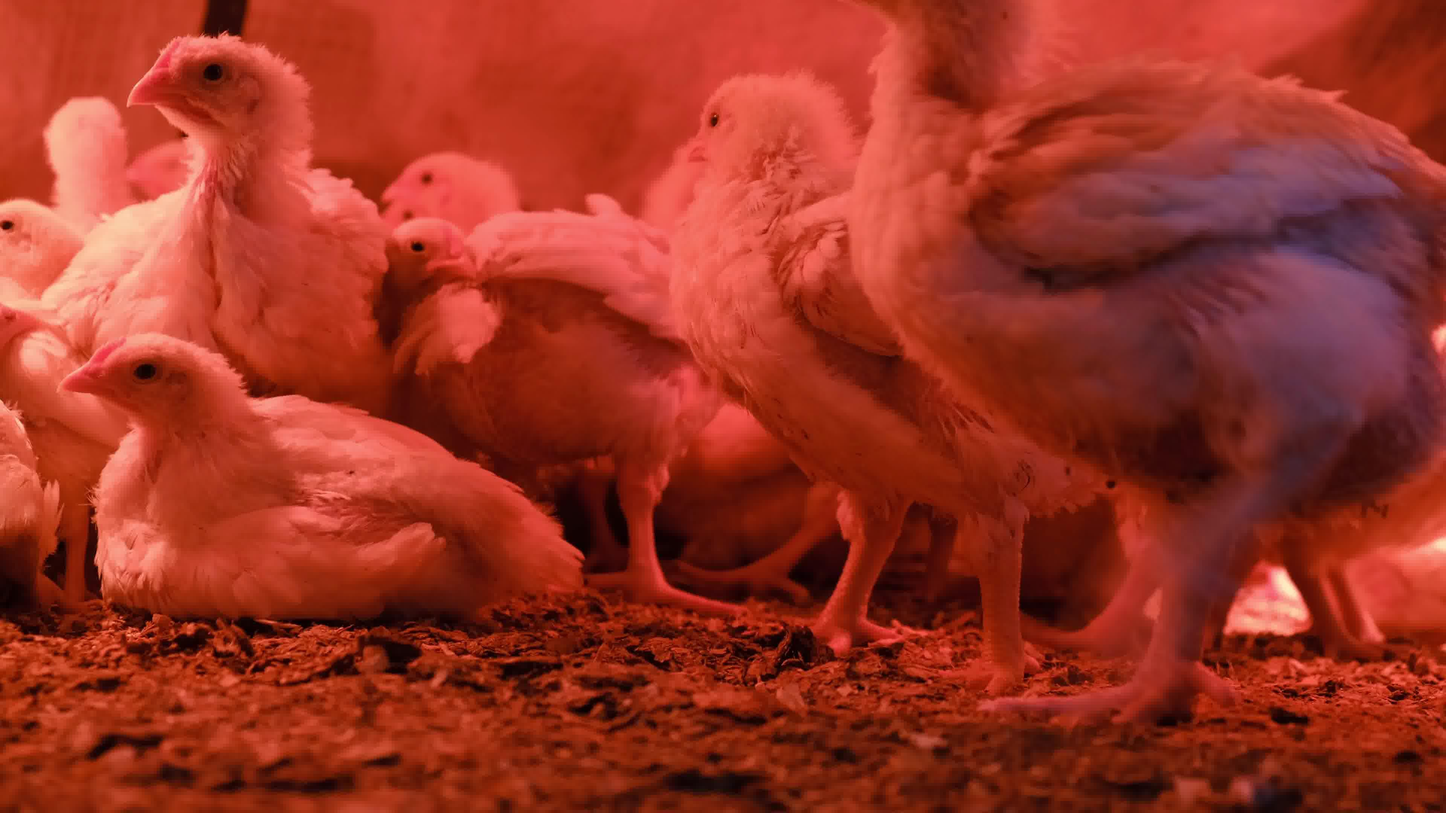AbNormal: (60, 336, 566, 616), (0, 290, 49, 607)
Normal: (850, 0, 1446, 723), (673, 74, 1100, 679), (379, 152, 750, 612), (39, 34, 388, 420), (1, 195, 126, 617), (369, 217, 480, 363), (48, 91, 128, 238), (126, 132, 209, 207)
